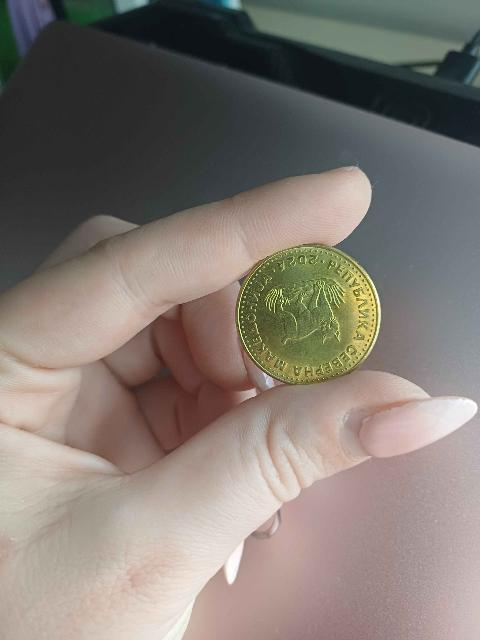5_coin: (237, 245, 380, 383)
